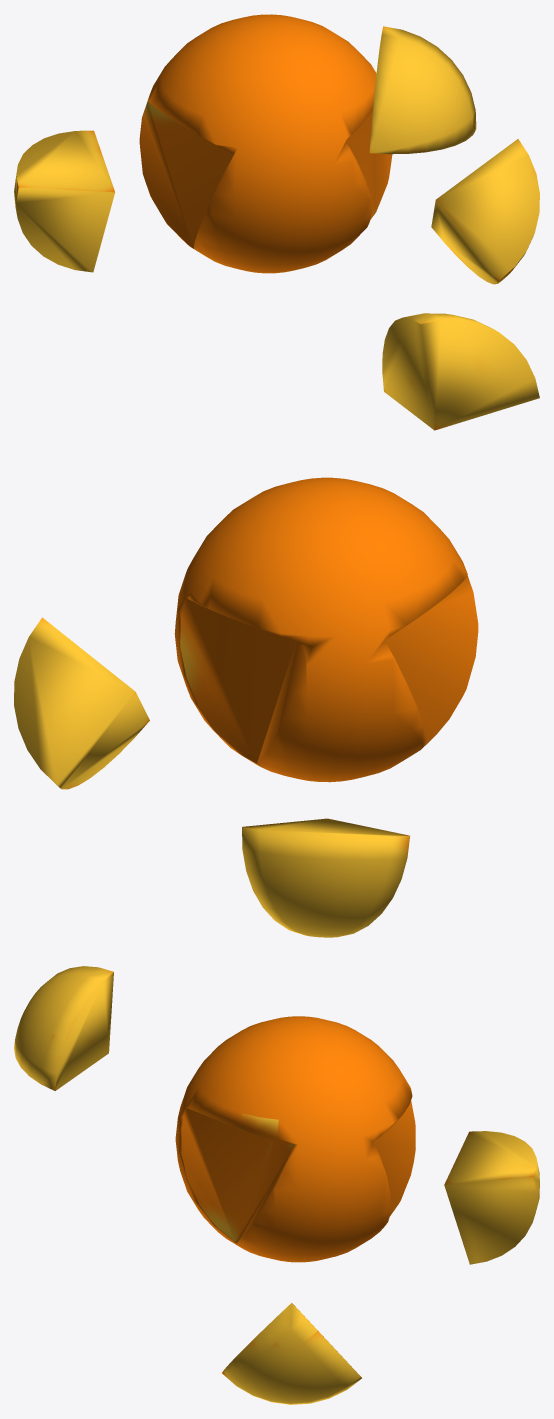
File: power_cell.obj
The picture shows the model from 3 angles, top to bottom: view 1: azimuth 30°, elevation 25°; view 2: azimuth 150°, elevation 25°; view 3: azimuth 270°, elevation 25°; orthographic projection. The views are drawn at different scales.
Visible parts, largest first — view 1: Sphere.003; view 2: Sphere.003; view 3: Sphere.003.
Part boxes in pixels (left/top/right/bottom): Sphere.003: left=14, top=14, right=539, bottom=284; Sphere.003: left=14, top=313, right=539, bottom=937; Sphere.003: left=14, top=966, right=539, bottom=1404.
Bounding box in the file's own units: 3.7 × 3.1 × 4.27.
Materials: 1 (1 with a texture image).
